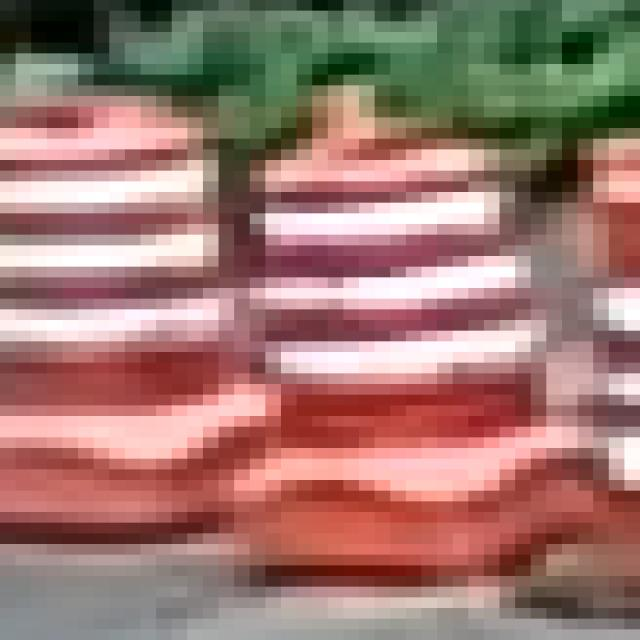big_cone: (217, 77, 598, 605), (0, 65, 219, 610)
